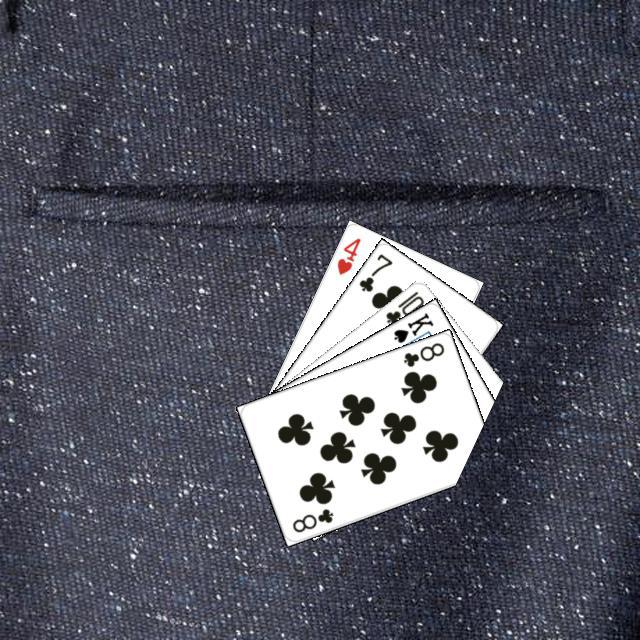10c: (381, 286, 426, 327)
4h: (332, 233, 363, 277)
7c: (354, 249, 394, 294)
8c: (398, 338, 446, 369), (287, 504, 335, 534)
Ks: (388, 308, 435, 345)
